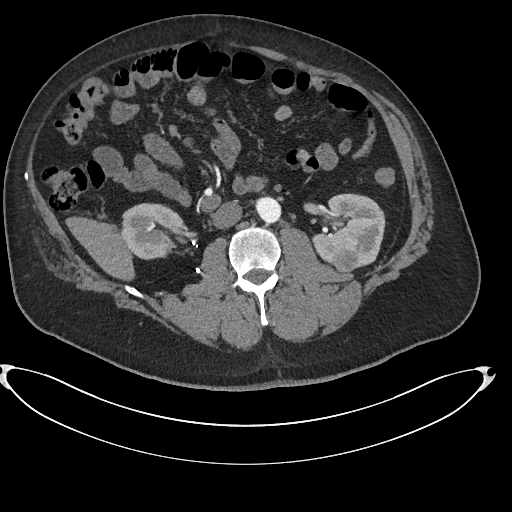Lesion: (330, 249, 360, 274)
